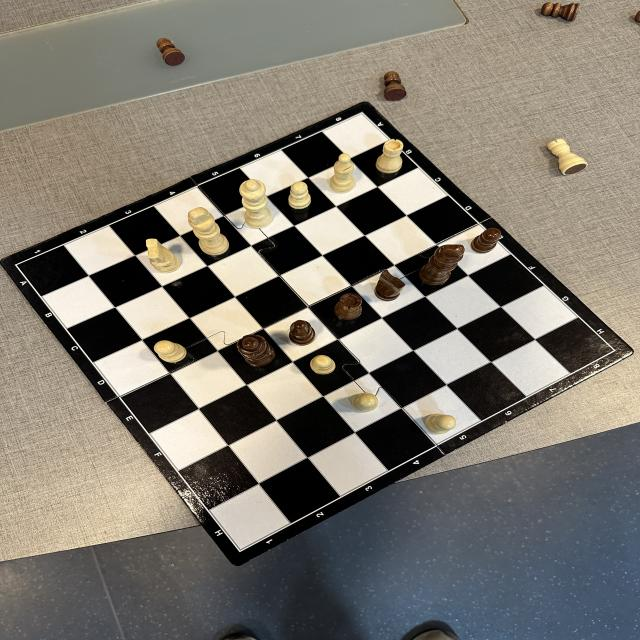Black-Bishop: (288, 320, 316, 346)
Black-King: (418, 244, 465, 286)
Black-Knight: (374, 269, 406, 302)
Black-Pawn: (471, 228, 502, 255), (156, 38, 185, 66), (540, 2, 580, 21), (383, 71, 407, 102)
Black-Queen: (236, 334, 276, 367)
Black-Rook: (334, 293, 363, 320)
White-Bishop: (329, 153, 356, 194)
White-King: (187, 207, 230, 256)
White-Knight: (145, 238, 181, 273)
White-Pawn: (153, 340, 188, 363), (424, 413, 457, 434), (288, 181, 312, 209), (310, 354, 336, 376), (352, 392, 378, 412)
White-Queen: (238, 179, 274, 229)
White-Rook: (546, 138, 588, 176), (375, 138, 404, 174)
